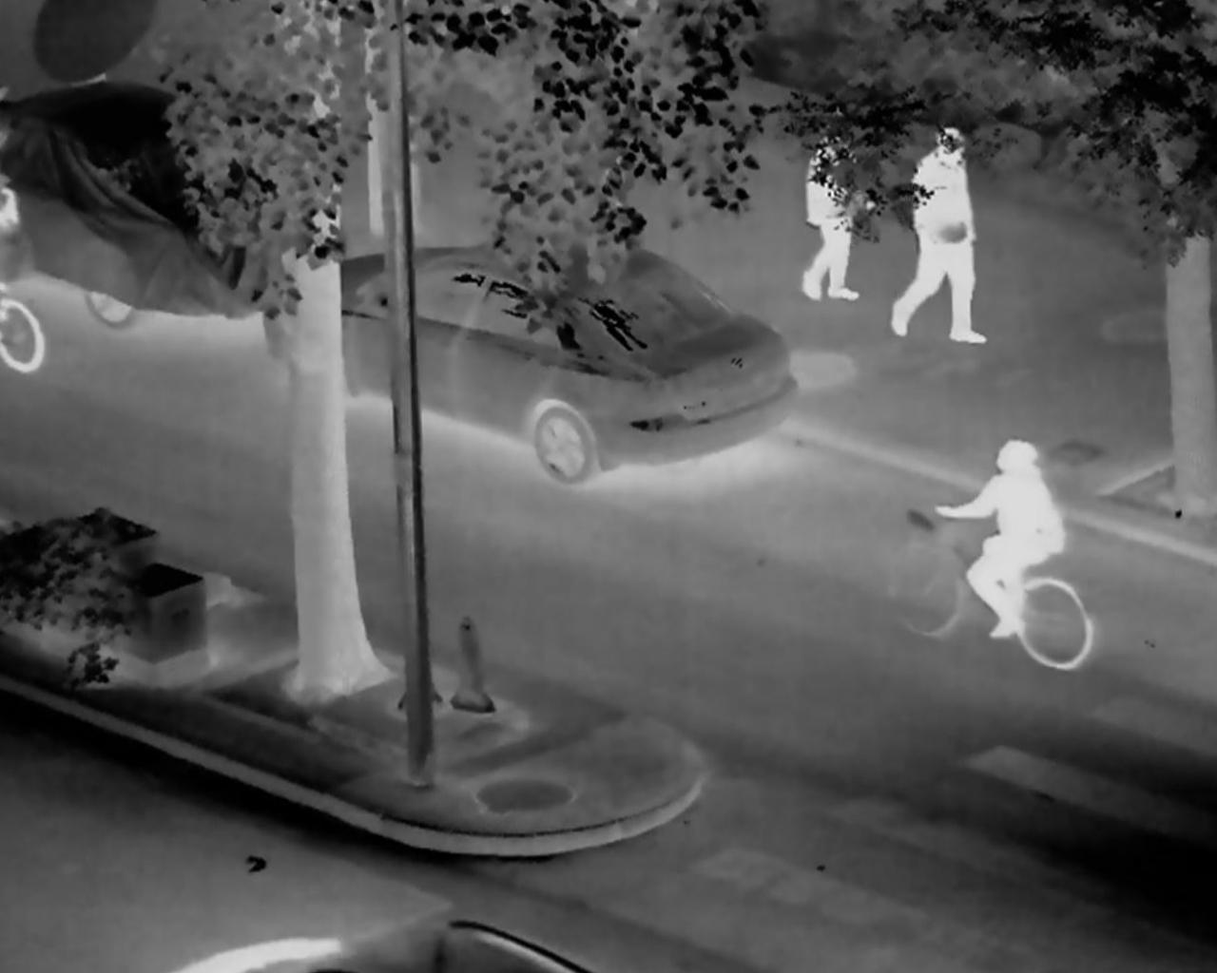person: (930, 437, 1070, 641), (890, 128, 989, 346), (802, 122, 876, 300)
